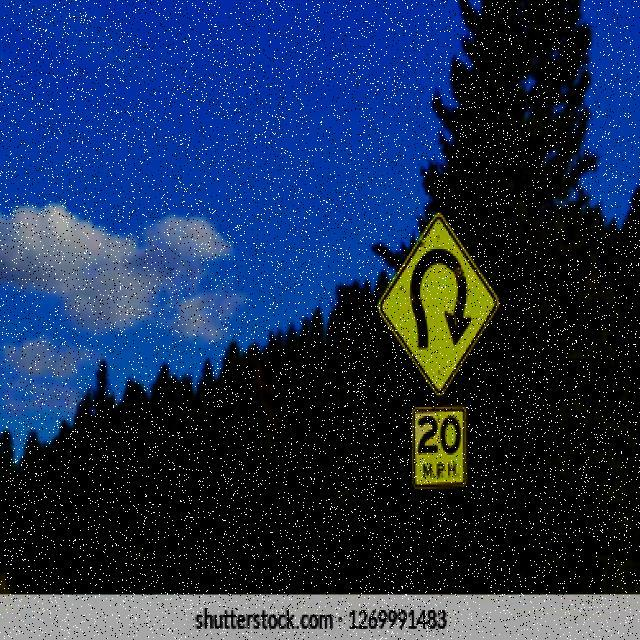Traffic sign: (372, 207, 504, 495)
